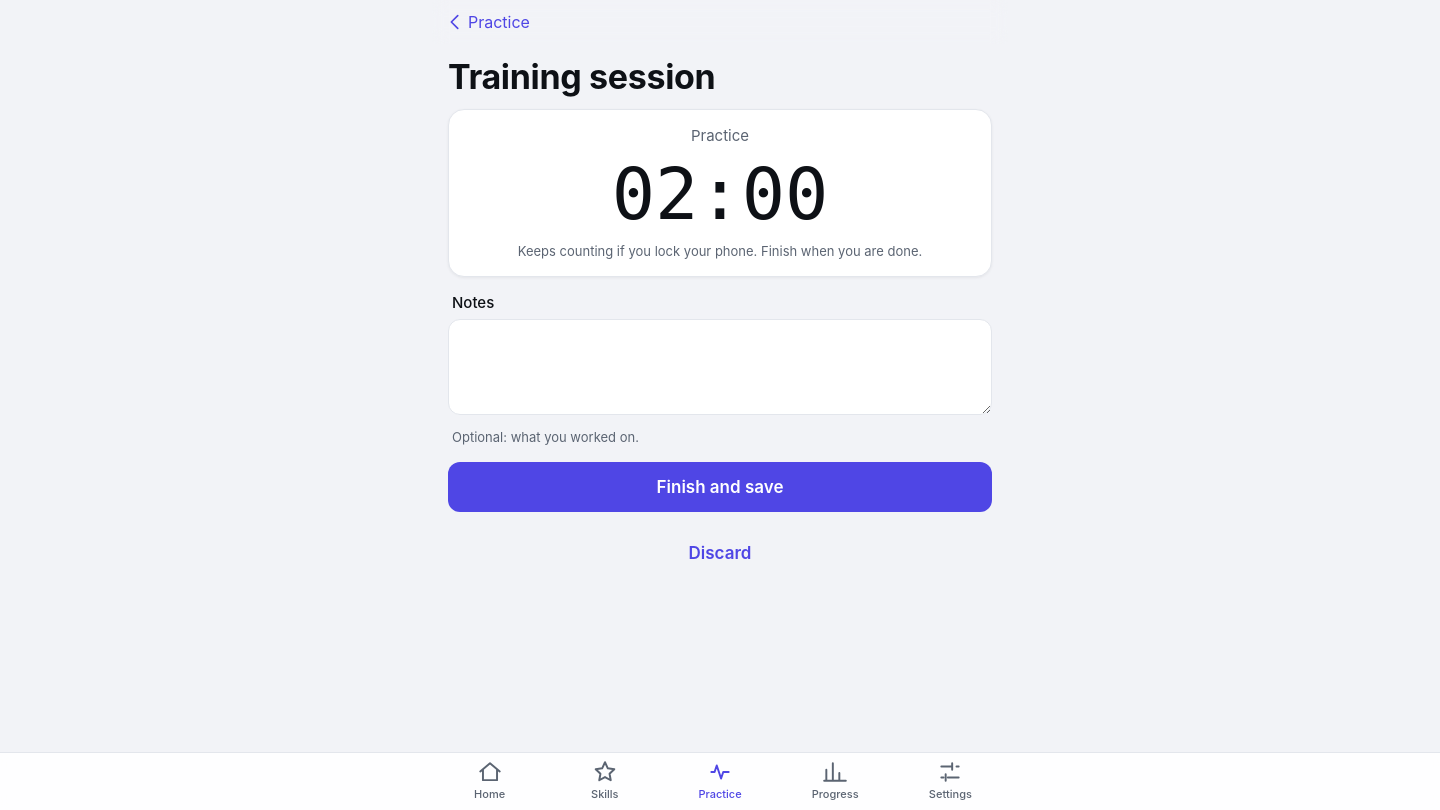
Session timer › short timed sessions are saved but say why there is no XP
The image size is (1440, 810).
Click the button "Finish and save".
click(720, 487)  # box [448,462,992,512]
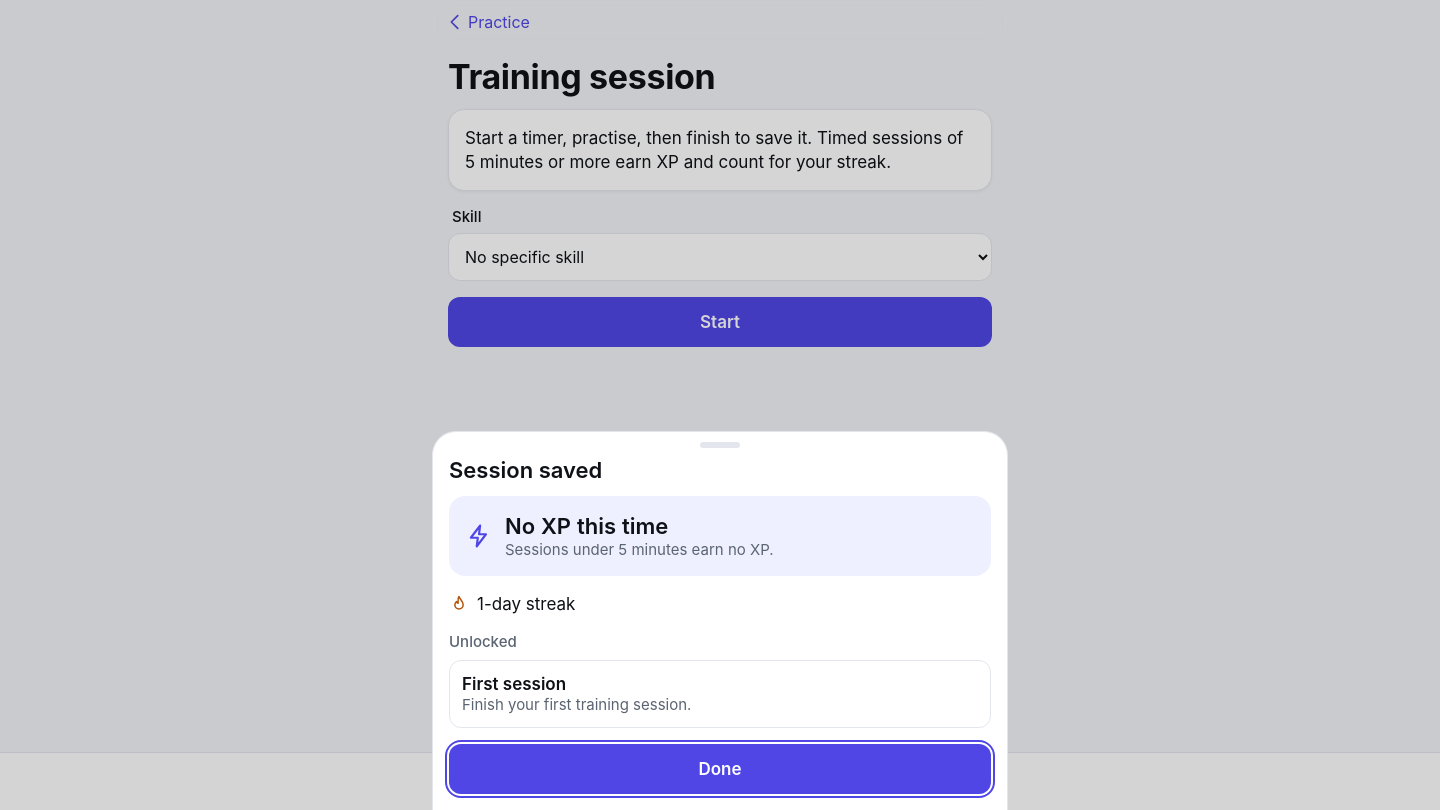
Expected: the text "No XP this time" is shown, [505,513,668,539]
Expected: the text "Sessions under 5 minutes earn no XP." is shown, [505,540,774,560]
